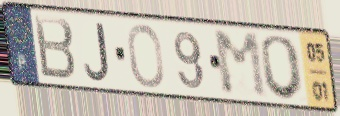9: (172, 29, 205, 91)
B: (31, 13, 78, 83)
J: (82, 21, 112, 83)
M: (210, 29, 271, 101)
O: (258, 33, 307, 102), (125, 22, 167, 90)
